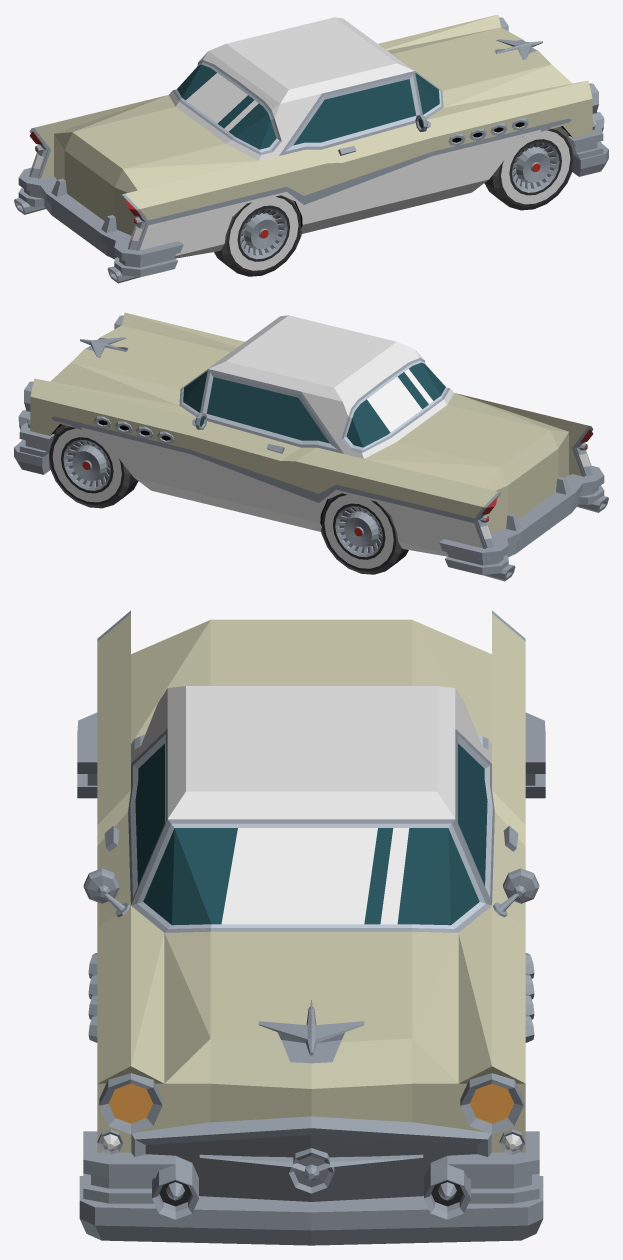
Rendered from buickF.fbx.
3 views of the same model, one above another, from view 1: azimuth 30°, elevation 25°; view 2: azimuth 150°, elevation 25°; view 3: azimuth 270°, elevation 25° (orthographic). The views are drawn at different scales.
Parts seen in each view (by area): view 1: Cube; view 2: Cube; view 3: Cube.
Boxes of the visible parts, <box> form: Cube: <box>14,14,608,283</box>; Cube: <box>14,312,608,581</box>; Cube: <box>77,610,545,1245</box>.
Size of the model in its own units: 1314 by 403 by 531.
